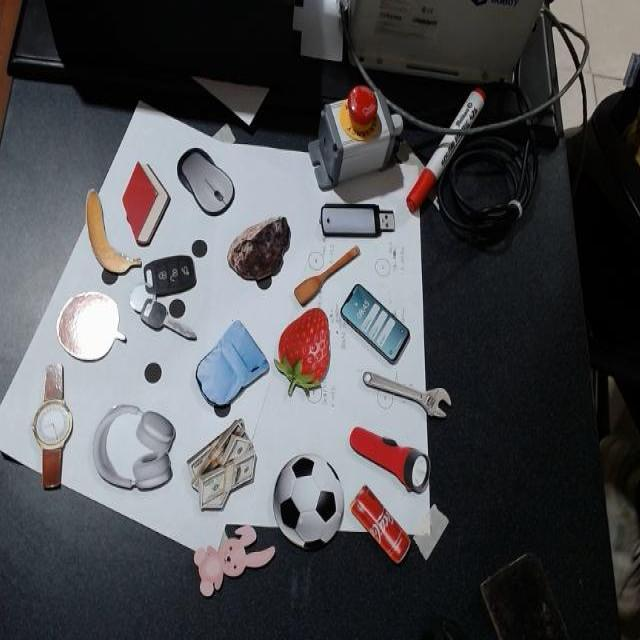Other Objects: (187, 315, 272, 427), (182, 419, 265, 520), (335, 277, 414, 369), (93, 405, 175, 492), (342, 422, 434, 498), (170, 134, 241, 228), (274, 455, 343, 549), (192, 524, 275, 596), (290, 231, 362, 311), (30, 361, 73, 489), (55, 289, 125, 363), (349, 484, 411, 564), (85, 188, 141, 275), (360, 370, 453, 421), (362, 369, 451, 417), (226, 215, 290, 281), (321, 204, 394, 237)
